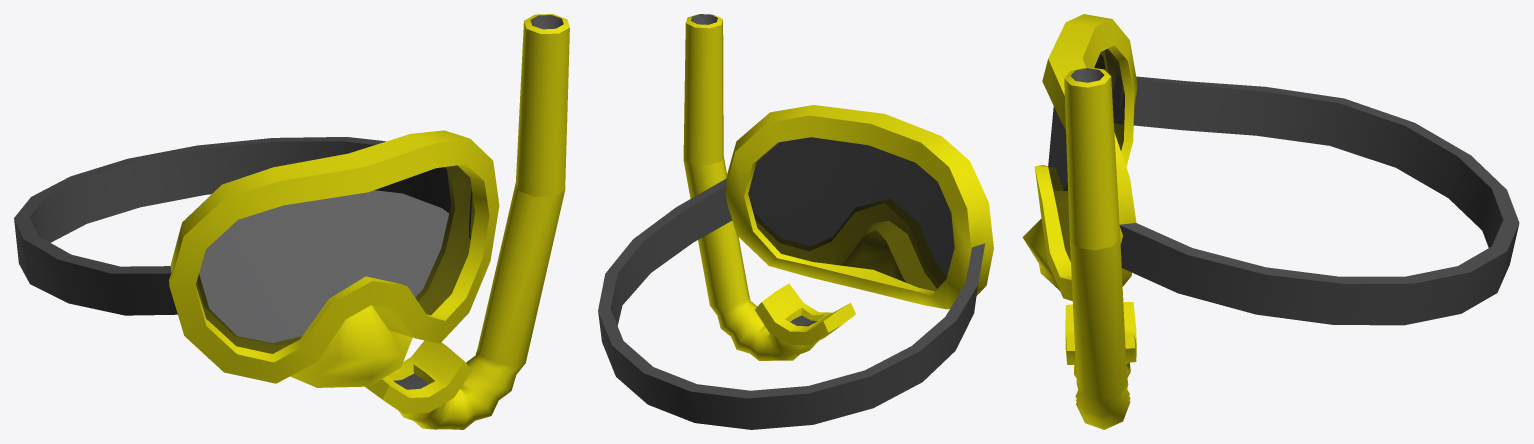
The model's file is Diving_mask.fbx.
The picture shows the model from 3 angles, left to right: view 1: azimuth 30°, elevation 25°; view 2: azimuth 150°, elevation 25°; view 3: azimuth 270°, elevation 25°; orthographic projection. The views are drawn at different scales.
Visible parts, largest first — view 1: Diving_mask; view 2: Diving_mask; view 3: Diving_mask.
Part boxes in pixels (left/top/right/bottom): Diving_mask: left=14, top=14, right=569, bottom=429; Diving_mask: left=598, top=14, right=993, bottom=429; Diving_mask: left=1022, top=14, right=1519, bottom=429.
Bounding box in the file's own units: 2.74 × 2.45 × 2.84.
